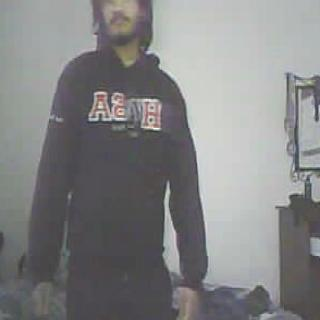HOSA hoodie: (26, 49, 206, 272)
Navy Sweatpants: (67, 270, 170, 320)
